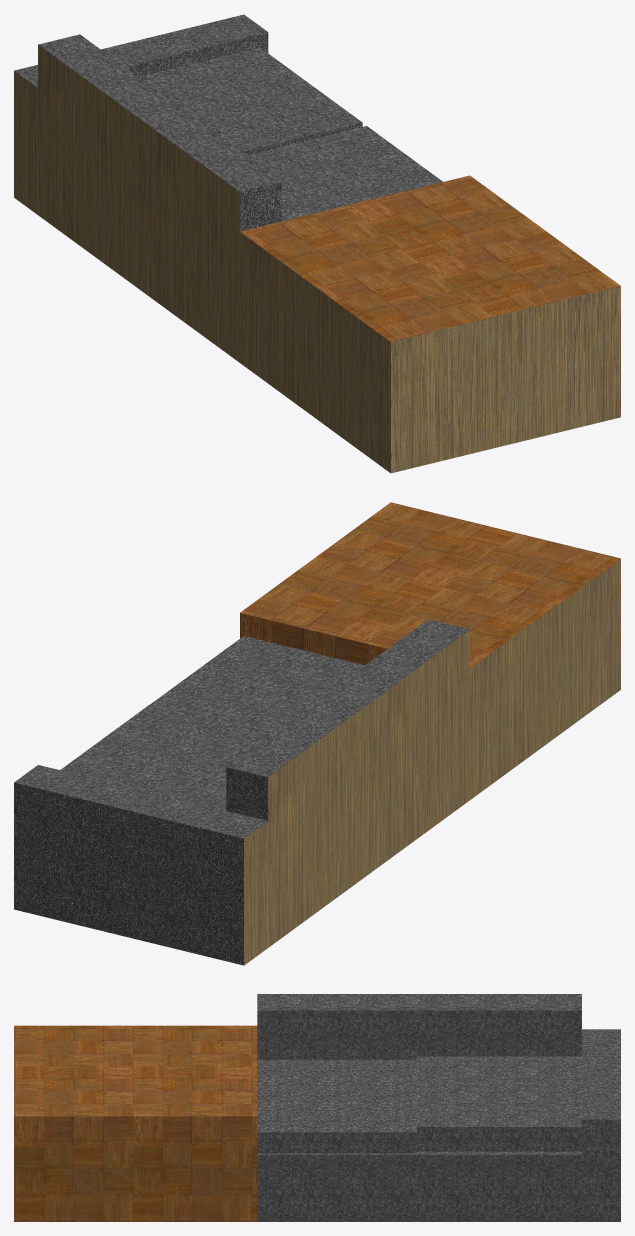
File: SofaEMesaRecepcaoEntrada.dae
The picture shows the model from 3 angles, top to bottom: view 1: azimuth 30°, elevation 25°; view 2: azimuth 150°, elevation 25°; view 3: azimuth 270°, elevation 25°; orthographic projection. The views are drawn at different scales.
Parts seen in each view (by area): view 1: instance_0 (×3); view 2: instance_0 (×3); view 3: instance_0 (×2).
Part boxes in pixels (x1,y1,x2,y2): instance_0 (×3): (14, 14, 620, 473); instance_0 (×3): (14, 502, 620, 965); instance_0 (×2): (14, 994, 620, 1221).
Size of the model in its own units: 43.31 by 123 by 30.71.
3 materials, 3 textured.
